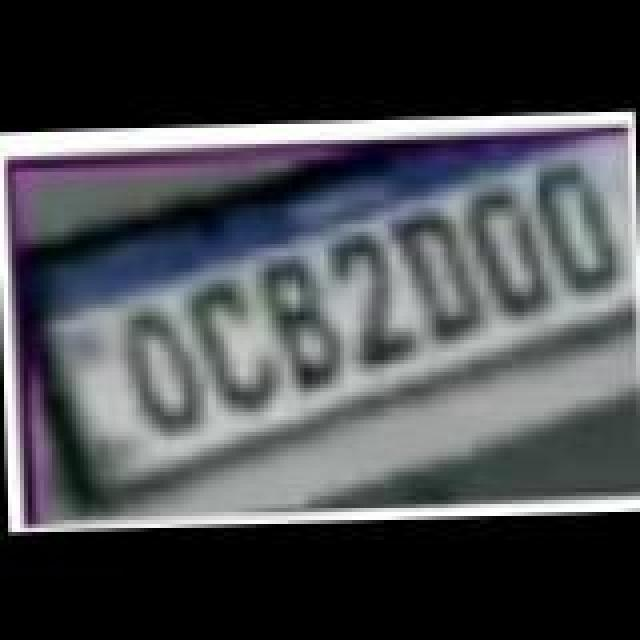2: (324, 228, 420, 368)
B: (256, 254, 352, 394)
C: (184, 280, 280, 416)
D: (388, 212, 488, 348), (532, 160, 628, 292), (464, 186, 556, 322)
O: (122, 308, 210, 440)
